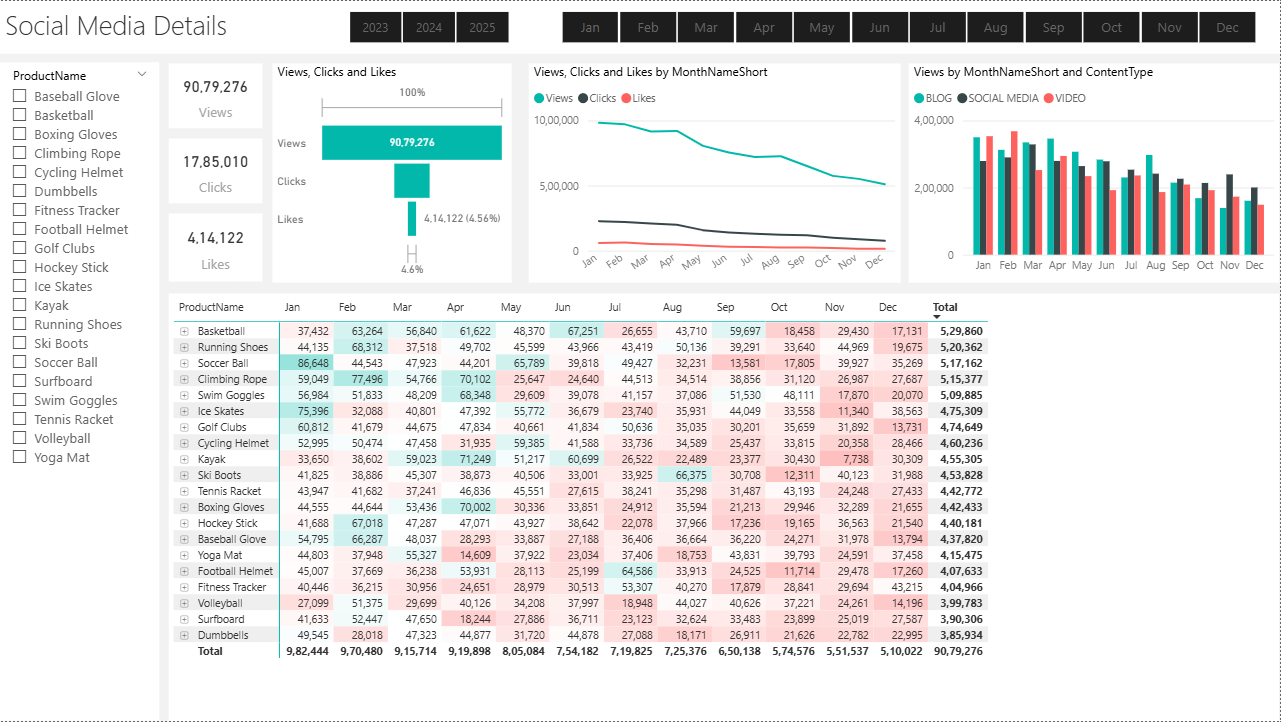

The page's visual inventory and layout, read from the dashboard file:
{"tool":"powerbi","page":{"name":"Social Media Details","canvas":[1280,720],"ordinal":2},"visuals":[{"type":"textbox","box":[0,0,1280,52.6],"z":0},{"type":"slicer","fields":{"Values":["dim_products.ProductName"]},"box":[0,61.6,159.5,658.5],"z":1000},{"type":"lineChart","fields":{"Y":["_Calculations.Views","_Calculations.Clicks","_Calculations.Likes"],"Category":["Calendar.MonthNameShort"]},"box":[528.5,61.9,371.6,218.8],"z":2000},{"type":"funnel","fields":{"Y":["_Calculations.Views","_Calculations.Clicks","_Calculations.Likes"]},"box":[272.5,61.9,239.5,218.8],"z":3000},{"type":"card","fields":{"Values":["_Calculations.Views"]},"box":[168.3,61.9,93.9,65],"z":4000},{"type":"card","fields":{"Values":["_Calculations.Clicks"]},"box":[168.3,137.3,93.9,65],"z":5000},{"type":"card","fields":{"Values":["_Calculations.Likes"]},"box":[168.3,212.6,93.9,68.1],"z":6000},{"type":"slicer","fields":{"Values":["Calendar.MonthNameShort"]},"box":[536.8,4.1,743.2,44.4],"z":7000},{"type":"slicer","fields":{"Values":["Calendar.Year"]},"box":[324.1,4.1,208.5,44.4],"z":8000},{"type":"pivotTable","fields":{"Rows":["dim_products.ProductName","fact_engagement.ContentType"],"Values":["_Calculations.Views"],"Columns":["Calendar.MonthNameShort"]},"box":[168.3,292.1,1110.7,428.4],"z":9000},{"type":"clusteredColumnChart","fields":{"Category":["Calendar.MonthNameShort"],"Series":["fact_engagement.ContentType"],"Y":["_Calculations.Views"]},"box":[908.4,61.9,370.6,218.8],"z":10000}]}

Visuals, with their boxes in screenshot pixels (x1, y1, x2, y2), scaled from the page's 1280x720 canvas onto the 1281x722 screenshot:
textbox: l=0, t=0, r=1280, b=53
slicer - dim_products.ProductName: l=0, t=62, r=160, b=721
lineChart - _Calculations.Views x _Calculations.Clicks: l=529, t=62, r=901, b=281
funnel - _Calculations.Views x _Calculations.Clicks: l=273, t=62, r=512, b=281
card - _Calculations.Views: l=168, t=62, r=262, b=127
card - _Calculations.Clicks: l=168, t=138, r=262, b=203
card - _Calculations.Likes: l=168, t=213, r=262, b=281
slicer - Calendar.MonthNameShort: l=537, t=4, r=1280, b=49
slicer - Calendar.Year: l=324, t=4, r=533, b=49
pivotTable - dim_products.ProductName x fact_engagement.ContentType: l=168, t=293, r=1280, b=721
clusteredColumnChart - Calendar.MonthNameShort x fact_engagement.ContentType: l=909, t=62, r=1280, b=281
